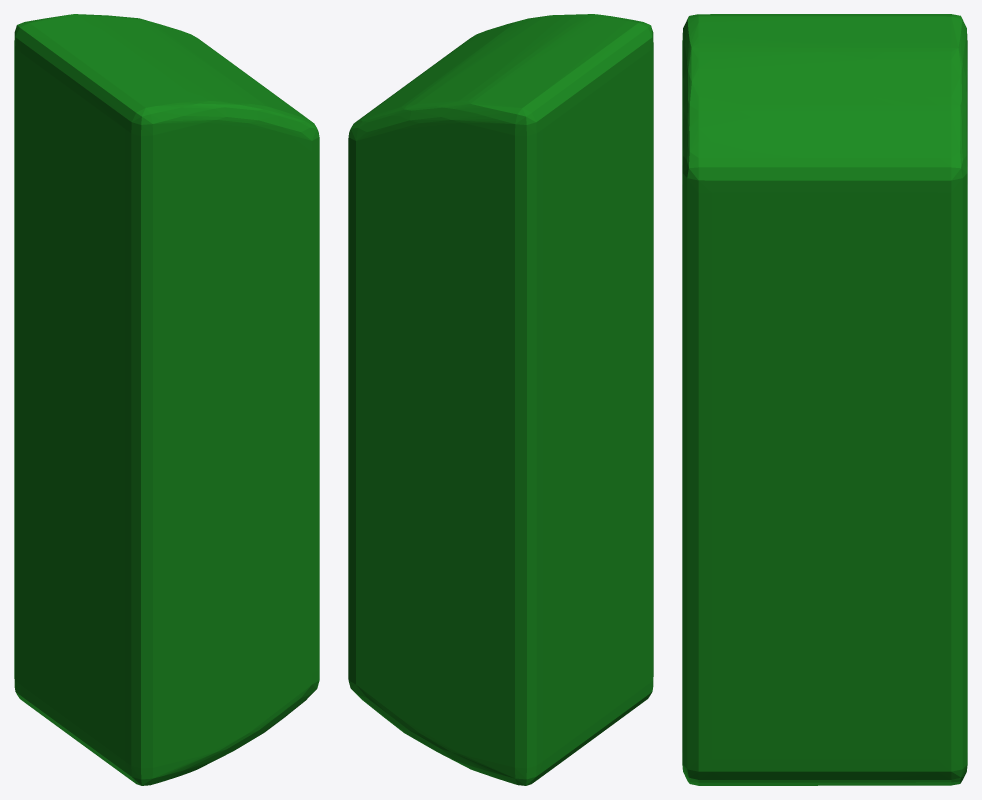
The model's file is right_forearm_collision_part_8.obj.
3 renders of one model, left to right at view 1: azimuth 30°, elevation 25°; view 2: azimuth 150°, elevation 25°; view 3: azimuth 270°, elevation 25°, orthographic. The views are drawn at different scales.
Size of the model in its own units: 39.86 by 137 by 48.17.
